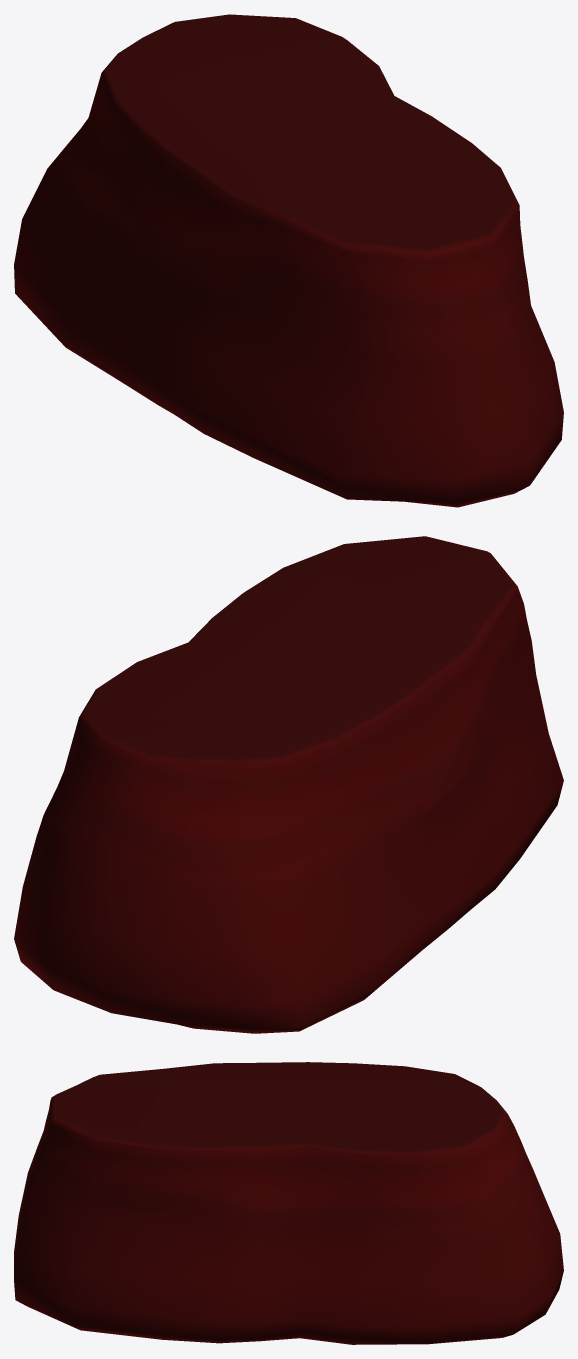
Rendered from geology-landforms-aliencliff_v2.fbx.
3 renders of one model, top to bottom at view 1: azimuth 30°, elevation 25°; view 2: azimuth 150°, elevation 25°; view 3: azimuth 270°, elevation 25°, orthographic. The views are drawn at different scales.
Visible parts, largest first — view 1: AlienCliff_v2; view 2: AlienCliff_v2; view 3: AlienCliff_v2.
Part boxes in pixels (<box>): AlienCliff_v2: <box>14,14,563,507</box>; AlienCliff_v2: <box>14,536,563,1033</box>; AlienCliff_v2: <box>14,1062,563,1344</box>.
Bounding box in the file's own units: 42.08 × 30.25 × 80.58.
